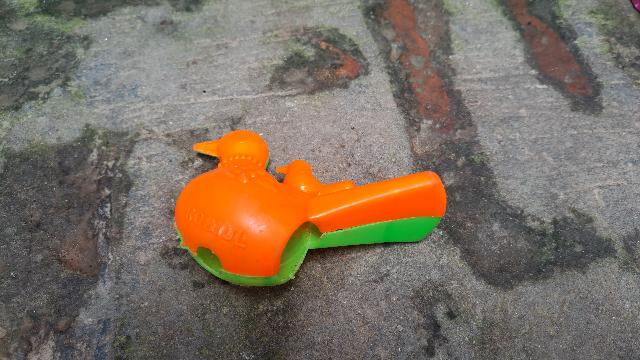hardplastic: (171, 127, 453, 315)
